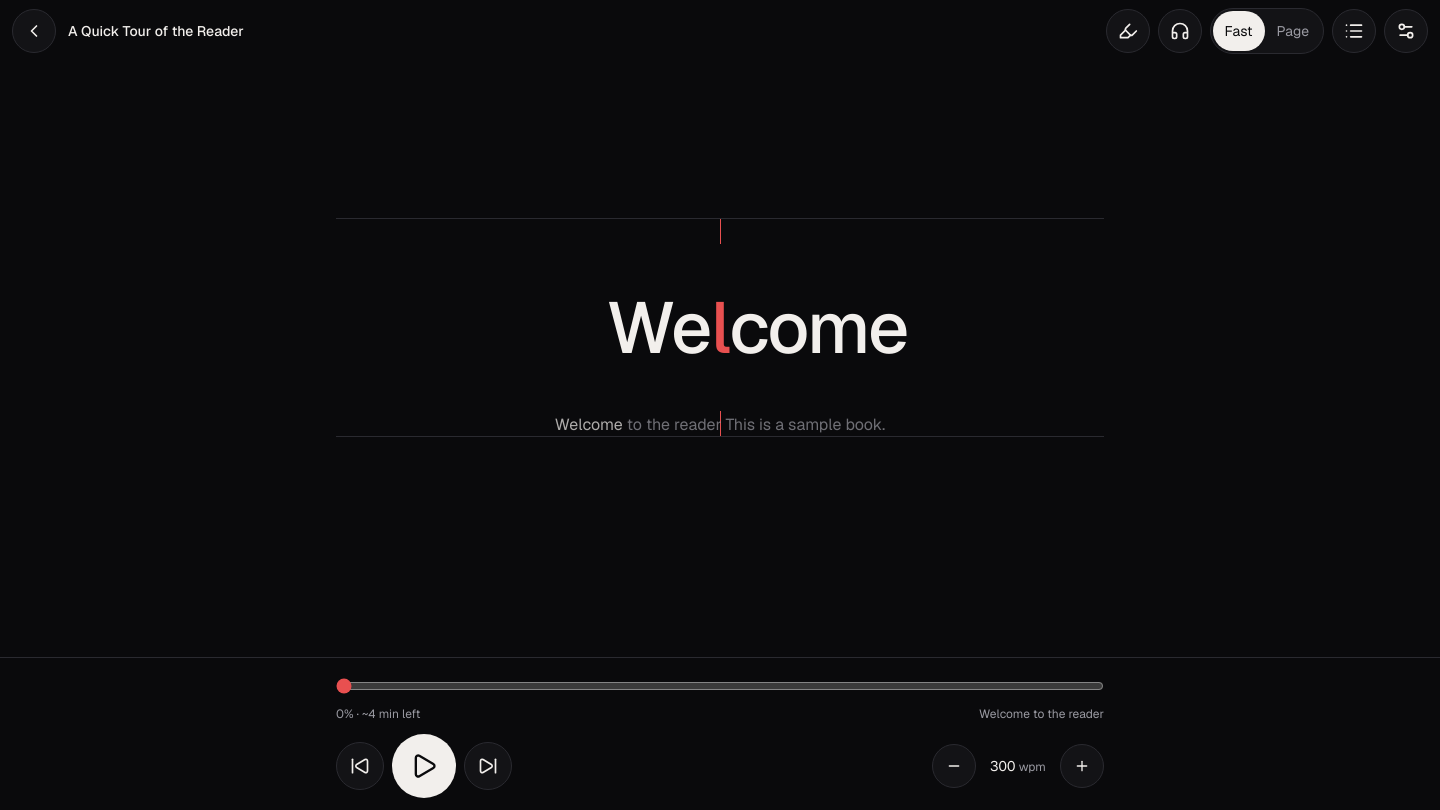
Test: ReaderApp › Page view highlights the current word, tap-to-seek moves it, and switching back keeps the index
The image size is (1440, 810).
Set the slider named "Position in book" to "10": (351, 686) [336,670,1104,702]
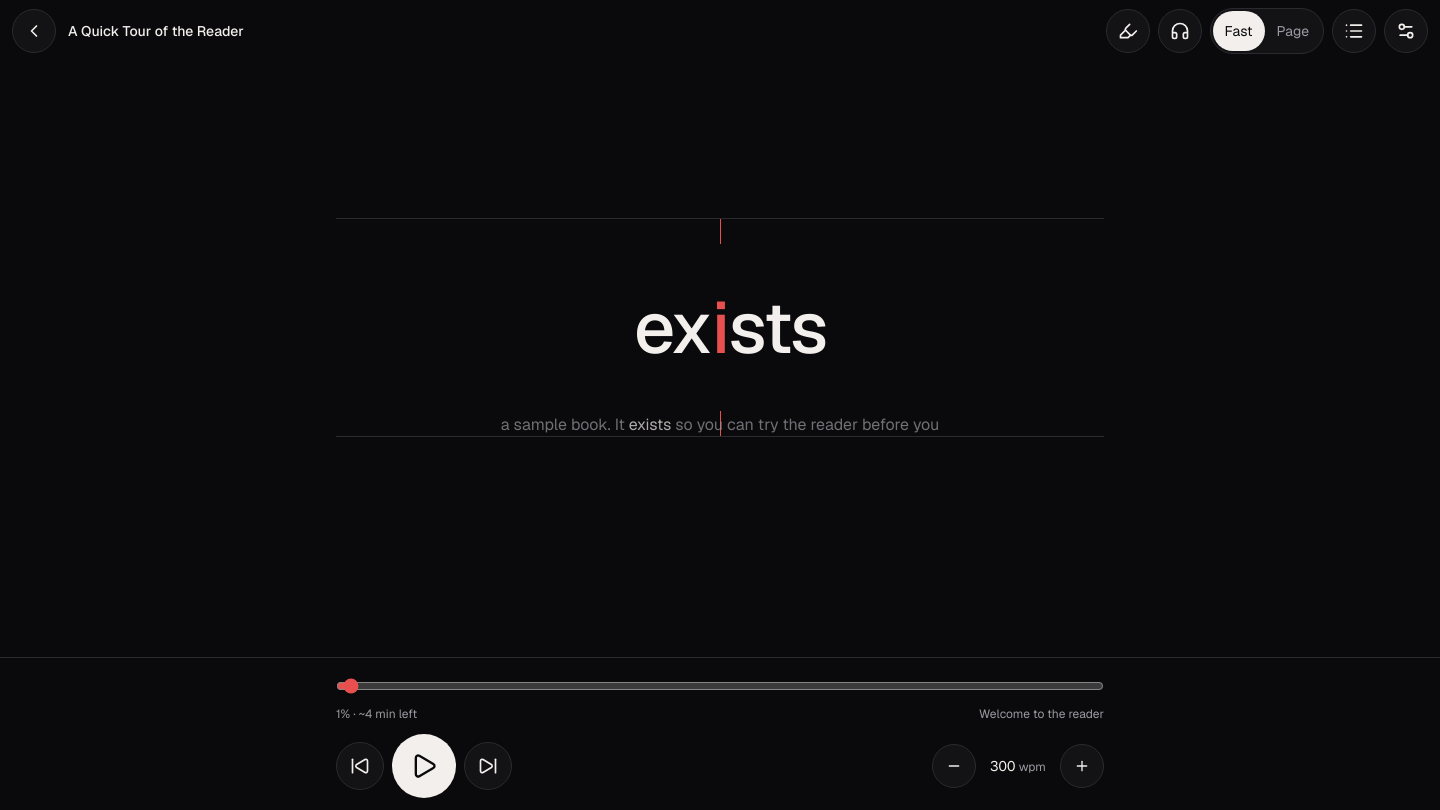
Click the button "Page": (1293, 31) [1264,11,1321,51]
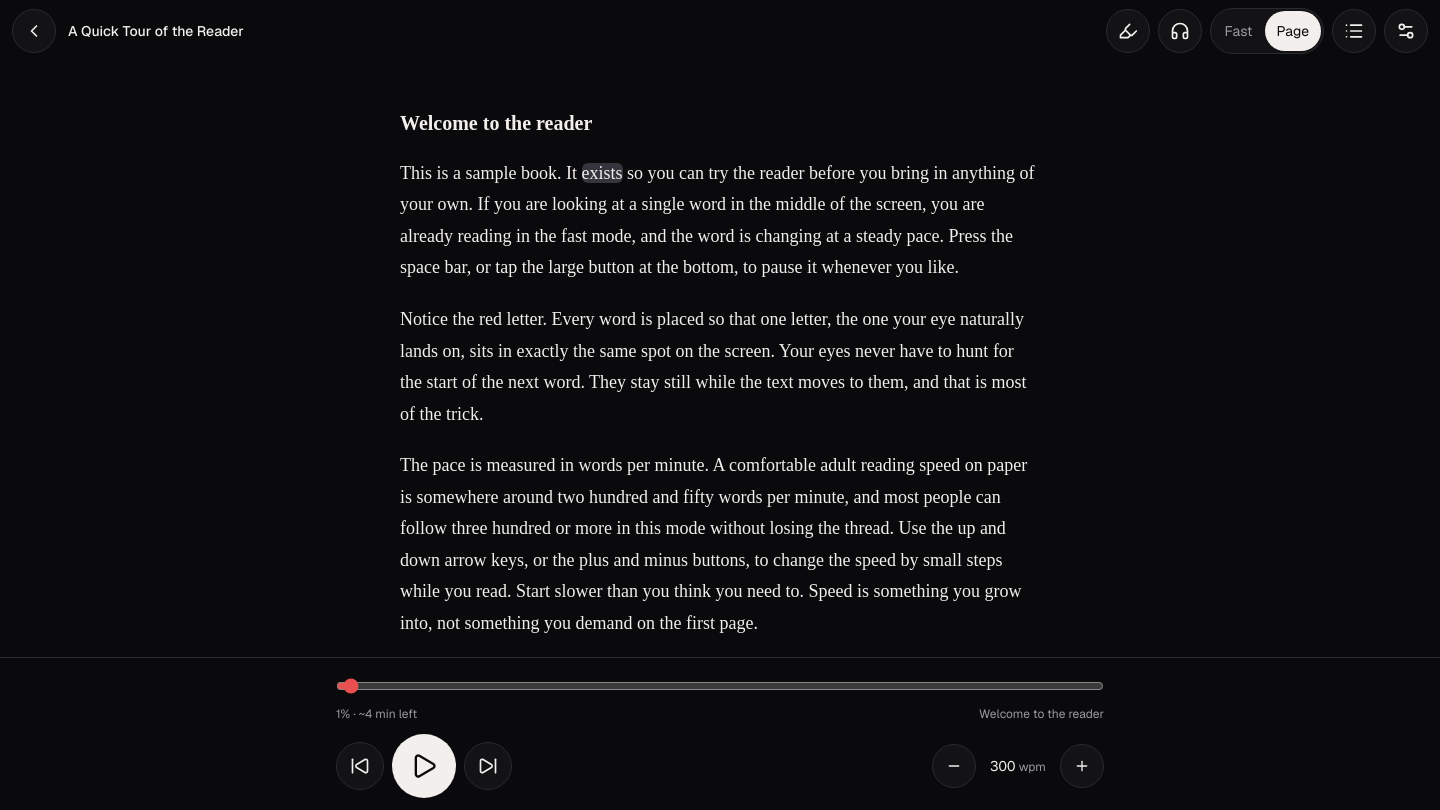
Expected: the text "exists" is shown, [582,162,622,182]
Click the text "can": (692, 172) [679,162,704,182]
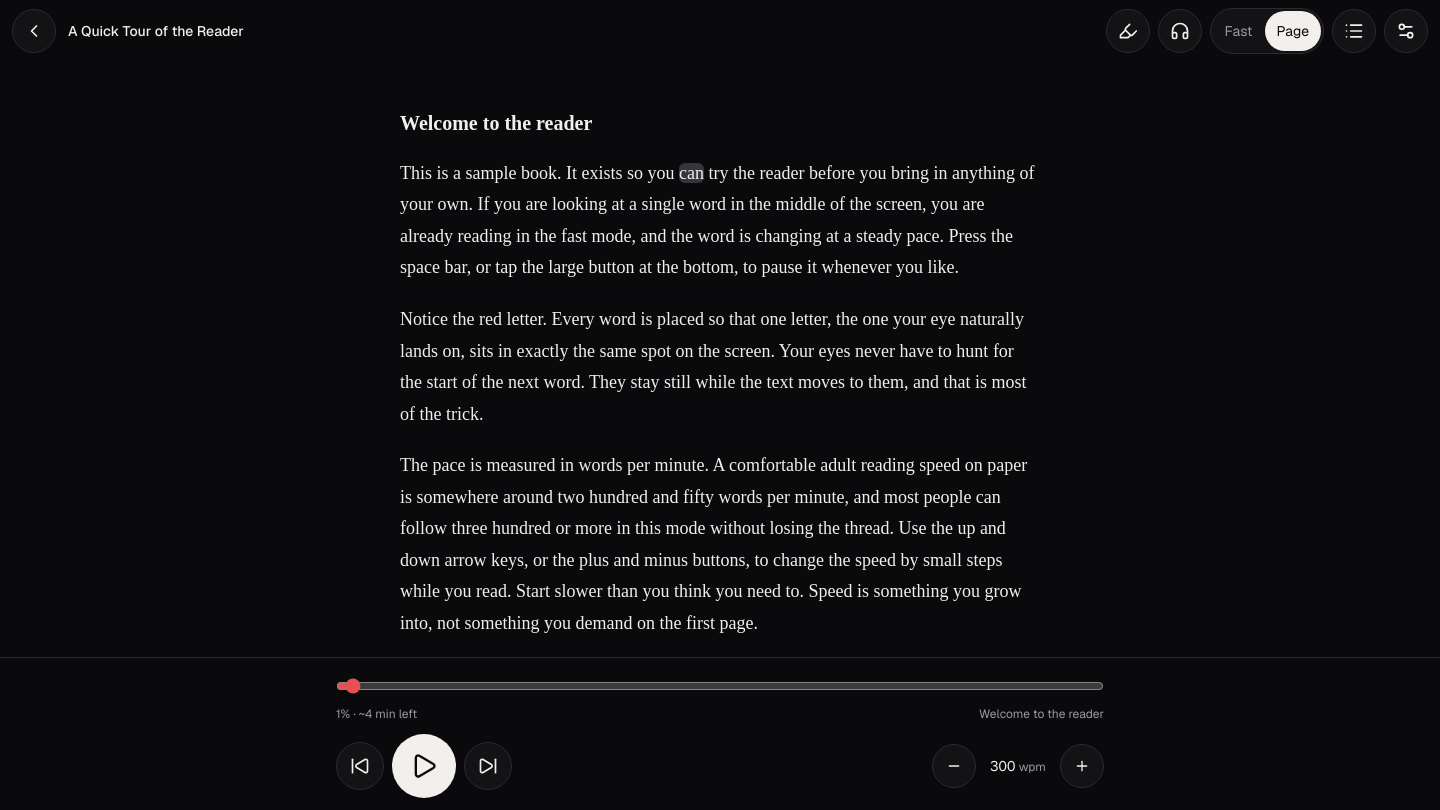
Expected: the text "can" is shown, [679,162,704,182]
Click the button "Fast": (1239, 31) [1213,11,1265,51]
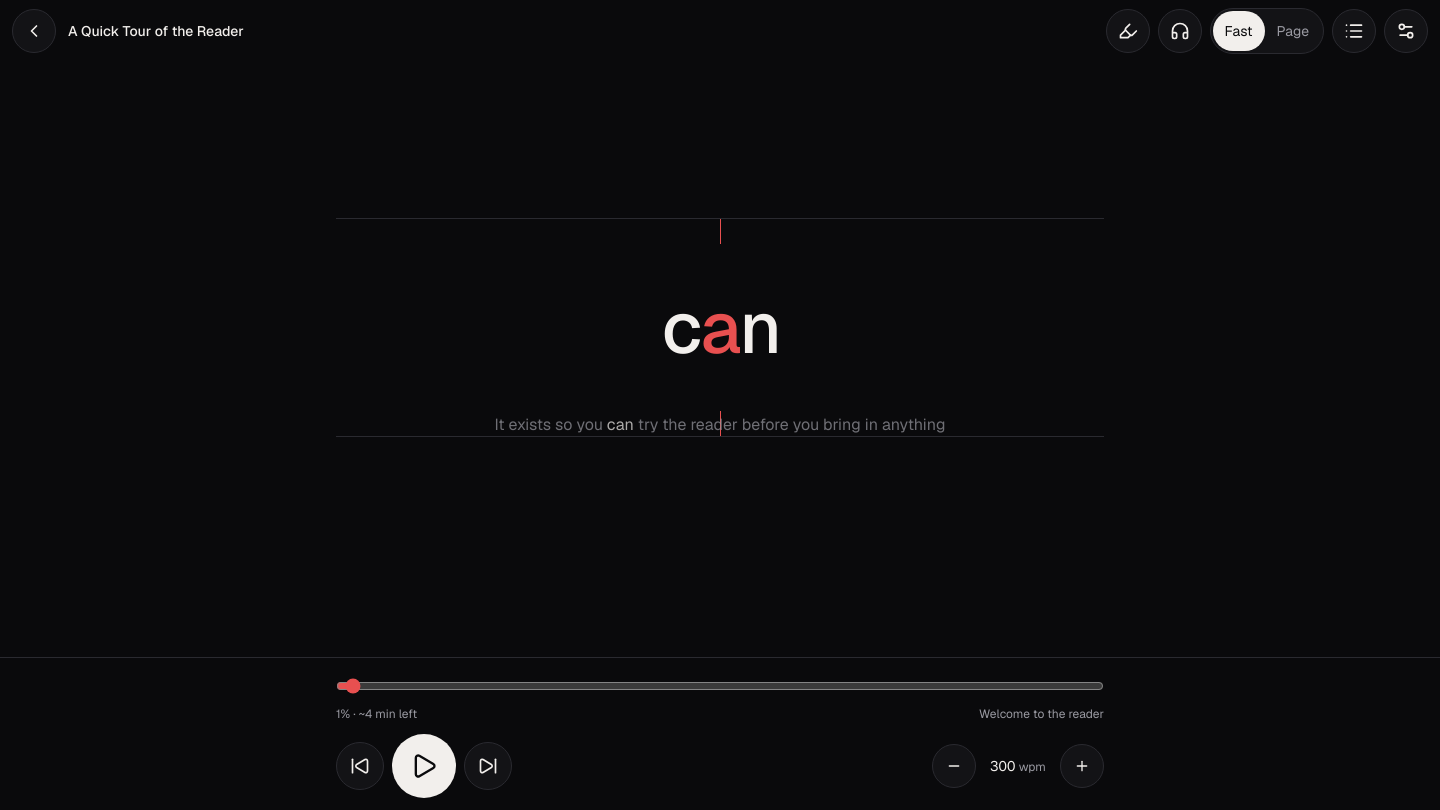
Expected: the picture with test id "rsvp-word" reads "c a n", [662,280,780,374]
